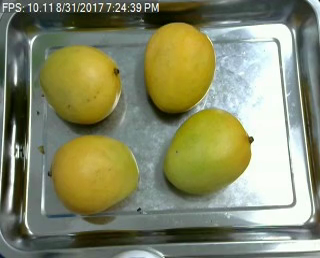Mango: (164, 109, 252, 192), (50, 135, 141, 213), (38, 45, 120, 126), (142, 21, 215, 111)
